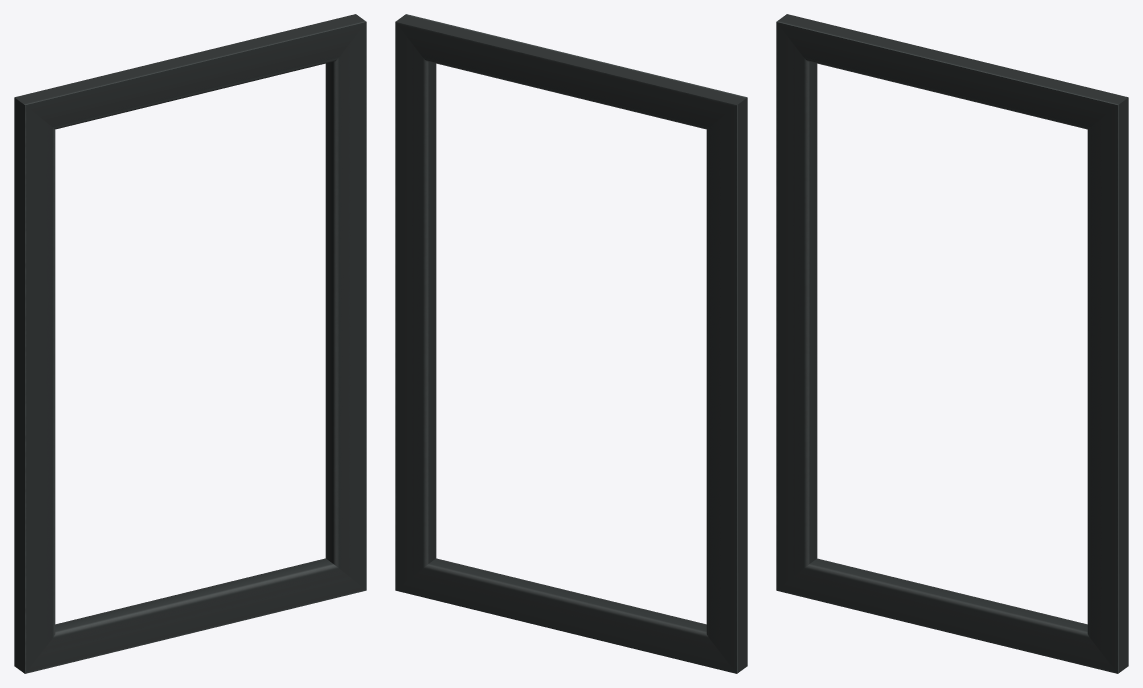
The model's file is PropWindow02TypeA_1.FBX.
3 renders of one model, left to right at view 1: azimuth 30°, elevation 25°; view 2: azimuth 150°, elevation 25°; view 3: azimuth 330°, elevation 25°, orthographic.
Parts seen in each view (by area): view 1: PropWindow02TypeA_1; view 2: PropWindow02TypeA_1; view 3: PropWindow02TypeA_1.
Part boxes in pixels (x1,y1,x2,y2): PropWindow02TypeA_1: (14, 14, 366, 673); PropWindow02TypeA_1: (395, 14, 747, 673); PropWindow02TypeA_1: (776, 14, 1128, 673).
Size of what is drawn, in the model's own units: 1.1 by 1.75 by 0.06.
